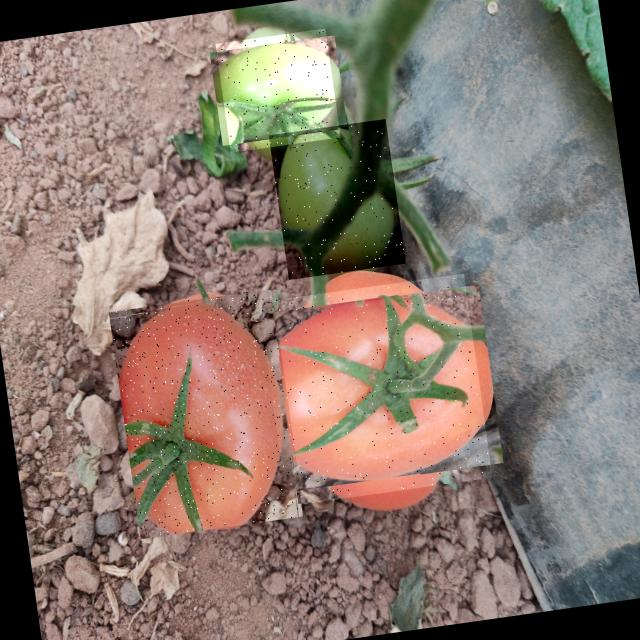Ripe Tomato: (259, 274, 493, 506), (109, 288, 304, 539)
Unripe Tomato: (269, 119, 406, 280), (216, 29, 340, 152)
